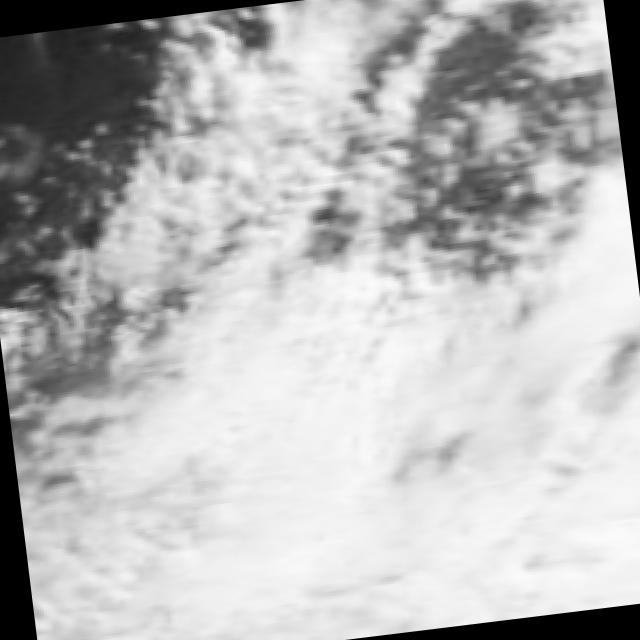CB: (213, 300, 432, 499), (434, 440, 640, 626), (432, 288, 616, 481), (209, 481, 422, 640), (26, 501, 256, 640)
